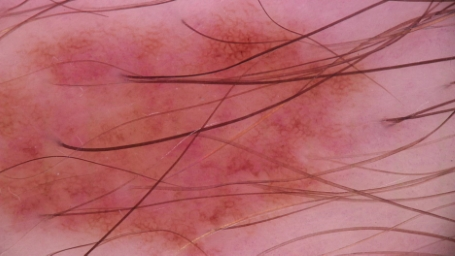nevus: (1, 28, 354, 235)
